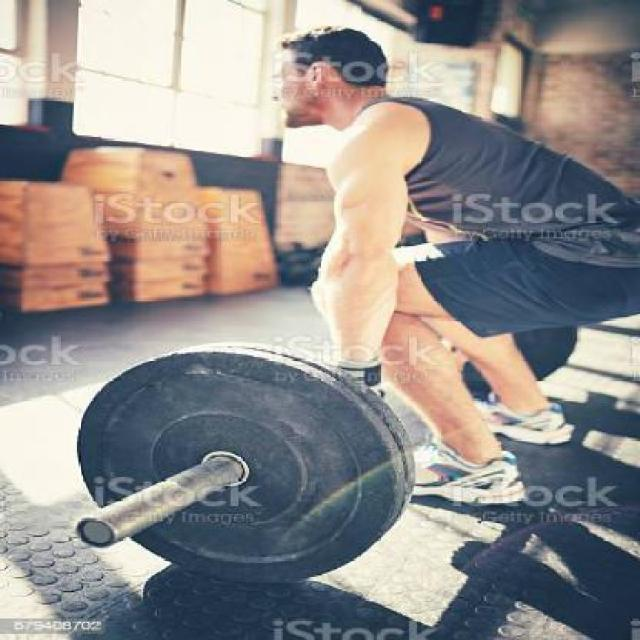barbell: (74, 343, 410, 601)
